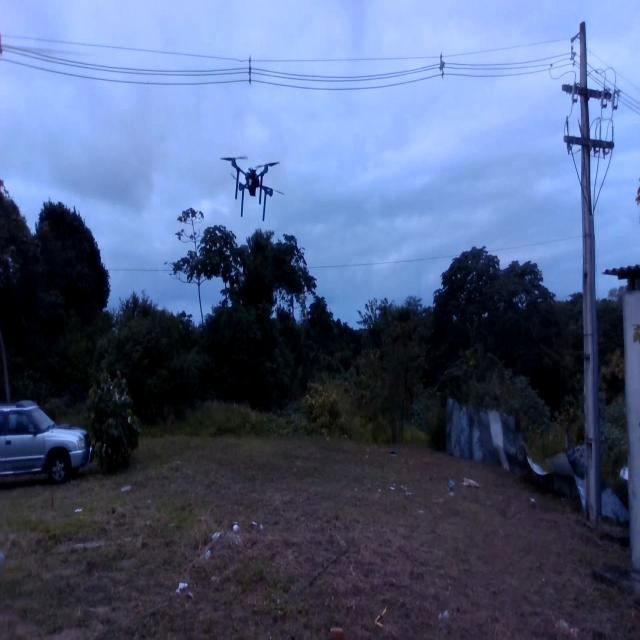-uav-: (210, 135, 288, 228)
